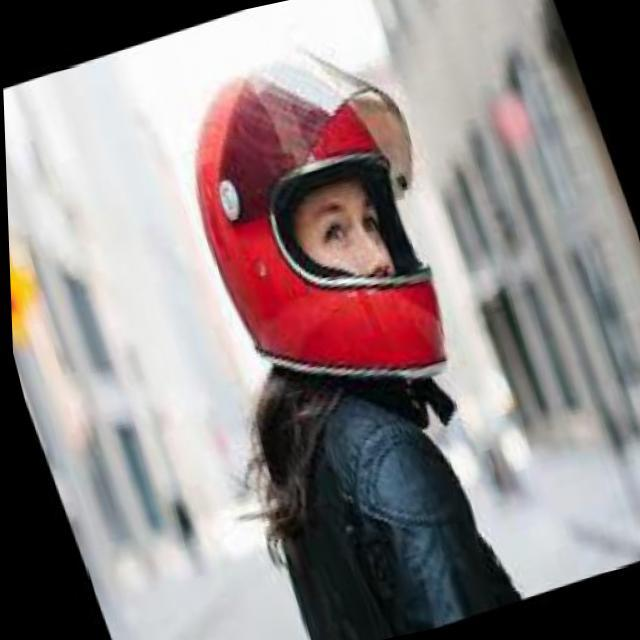Helmet: (180, 33, 454, 386)
